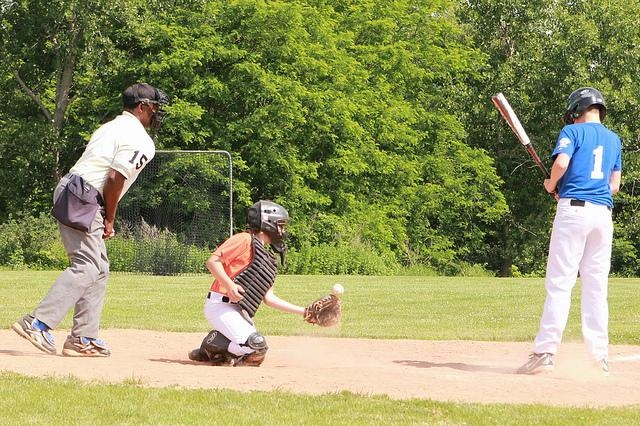person: (15, 81, 162, 357), (516, 84, 627, 378), (189, 201, 342, 364)
